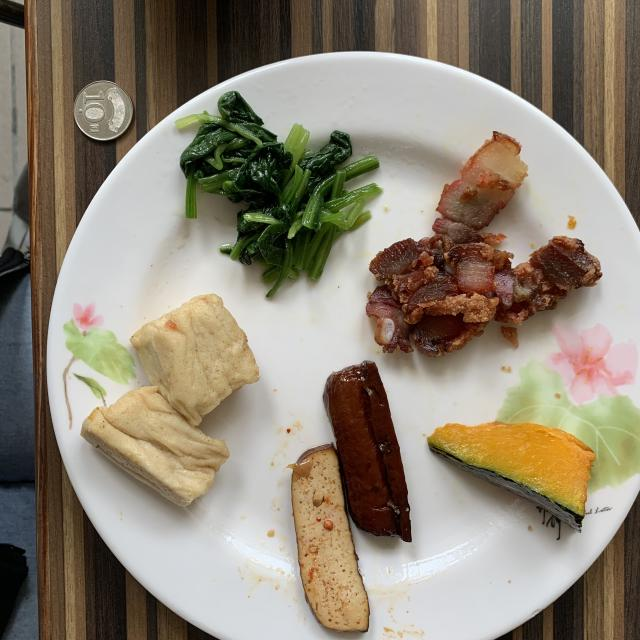coin: (74, 81, 132, 140)
creamy tofu -without sauce-: (81, 294, 259, 506)
firm tofu: (289, 361, 411, 631)
mustard greens: (176, 91, 381, 298)
pumpkin: (428, 421, 595, 531)
red grilled pork: (366, 131, 601, 356)
